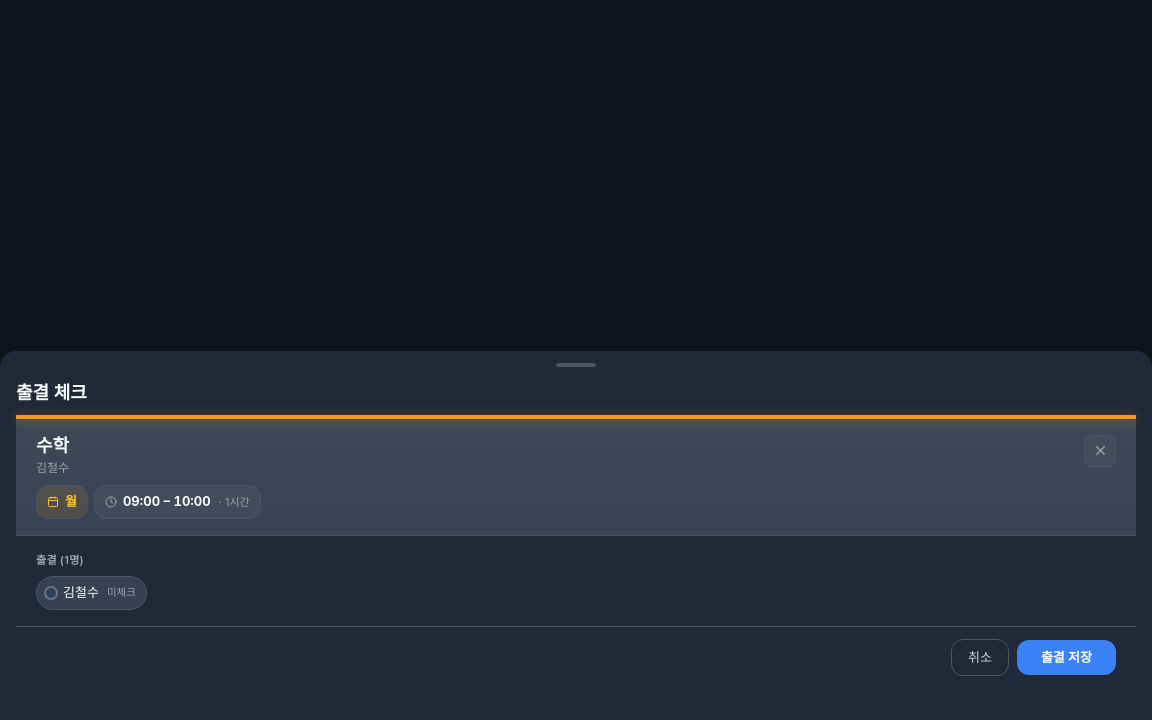
Test: EditSessionModal › attendanceOnly 모드 › 출결 row hover 시 학생 상세 tooltip(portal)을 띄우고 mouseLeave 시 숨긴다
Hover over the element with test id "edit-attendance-row-stu-1" at (91, 593), box [36,576,147,610]
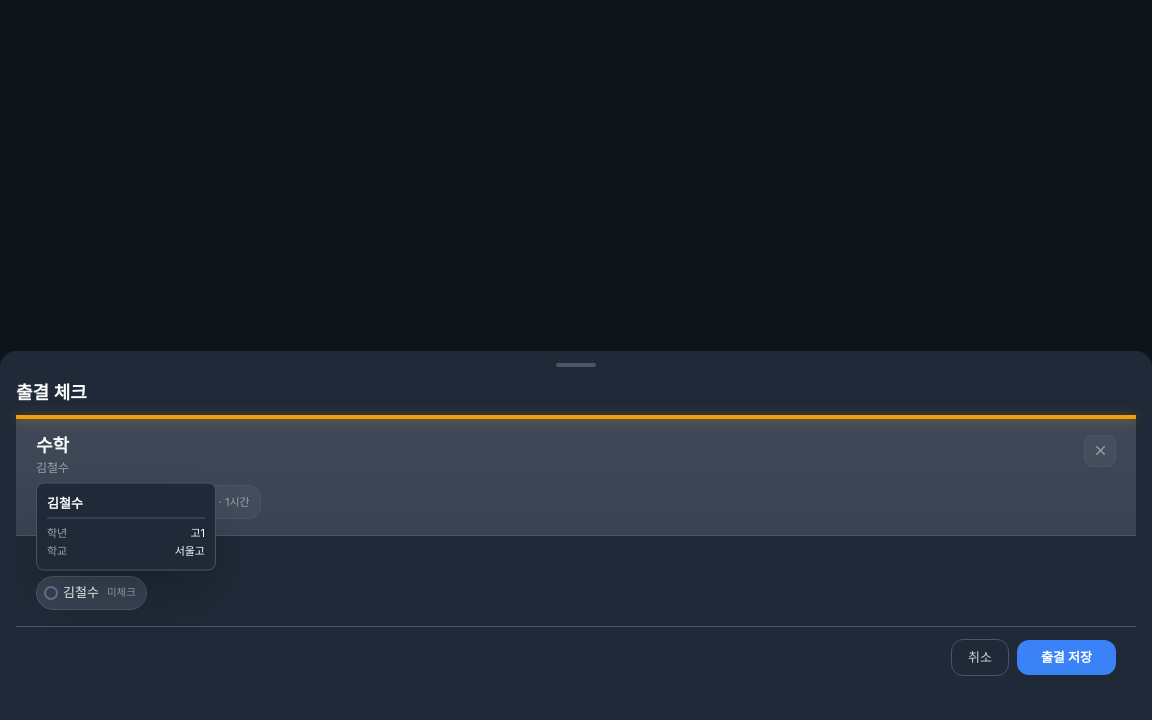
Check: the element with test id "edit-attendance-tooltip-stu-1" shows "김철수", box [47,494,83,510]
Check: the element with test id "edit-attendance-tooltip-stu-1" shows "고1", box [190,525,205,539]
Move the pointer off the element with test id "edit-attendance-row-stu-1", box [36,576,147,610]
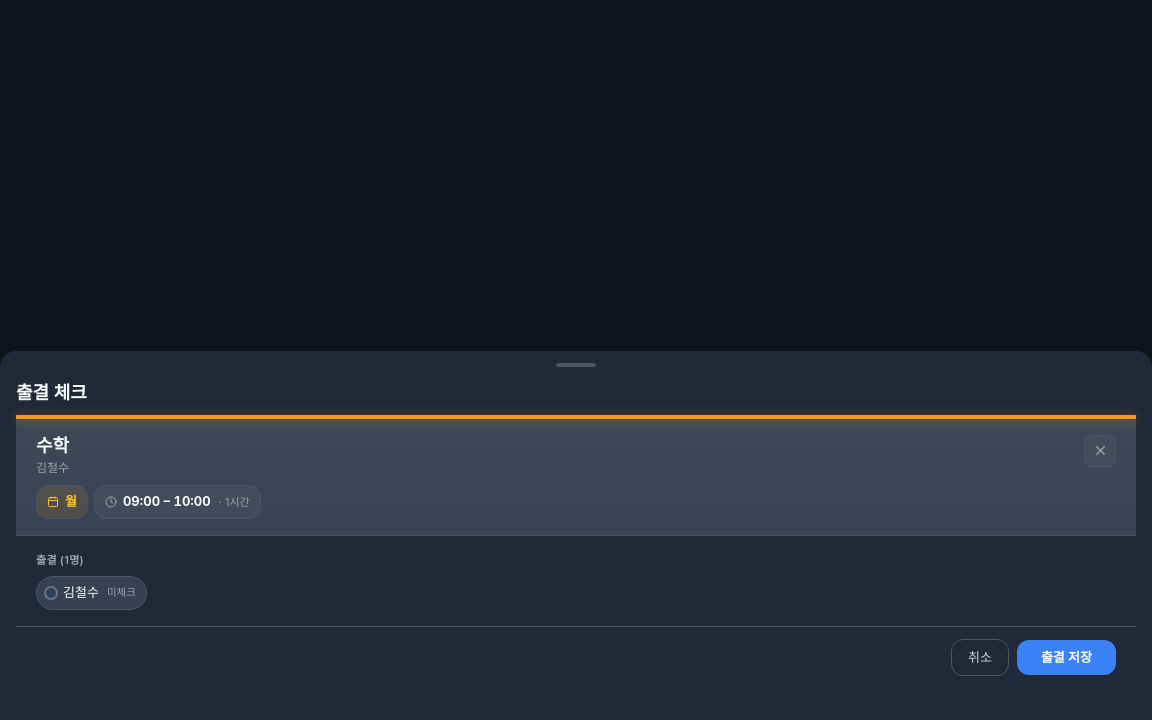
Check: the element with test id "edit-attendance-tooltip-stu-1" is gone
